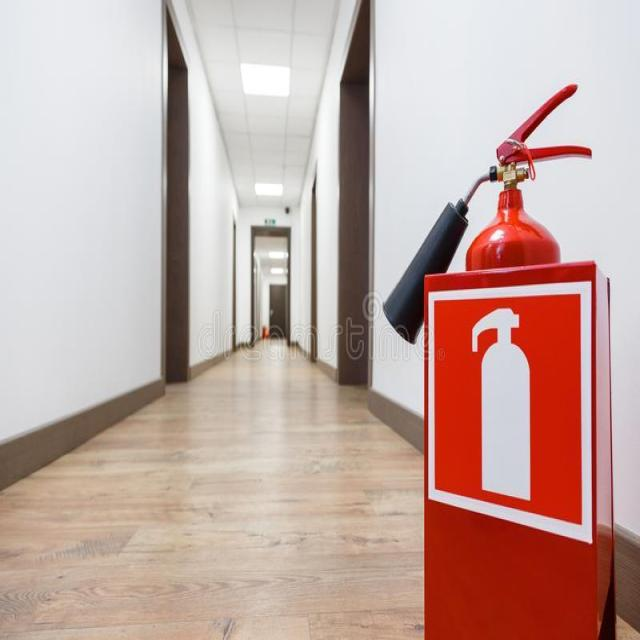fire_extinguisher: (378, 79, 596, 628)
